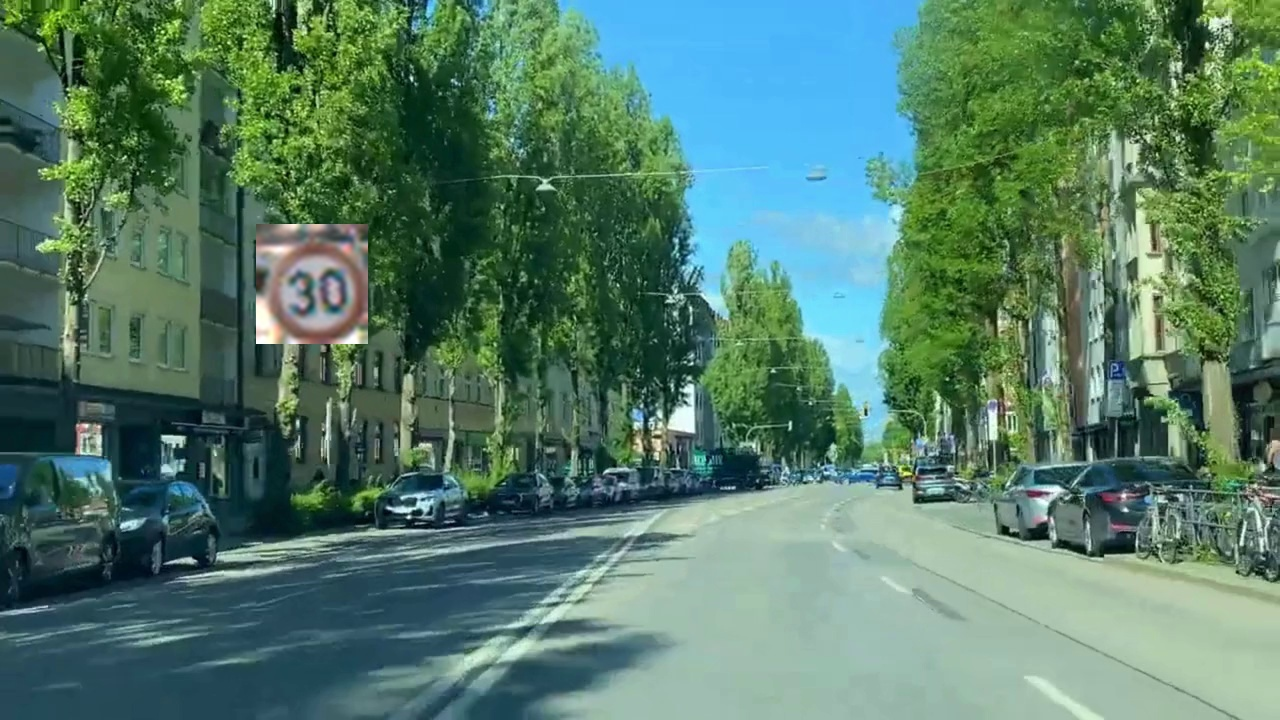Speed 30: (256, 224, 368, 344)
